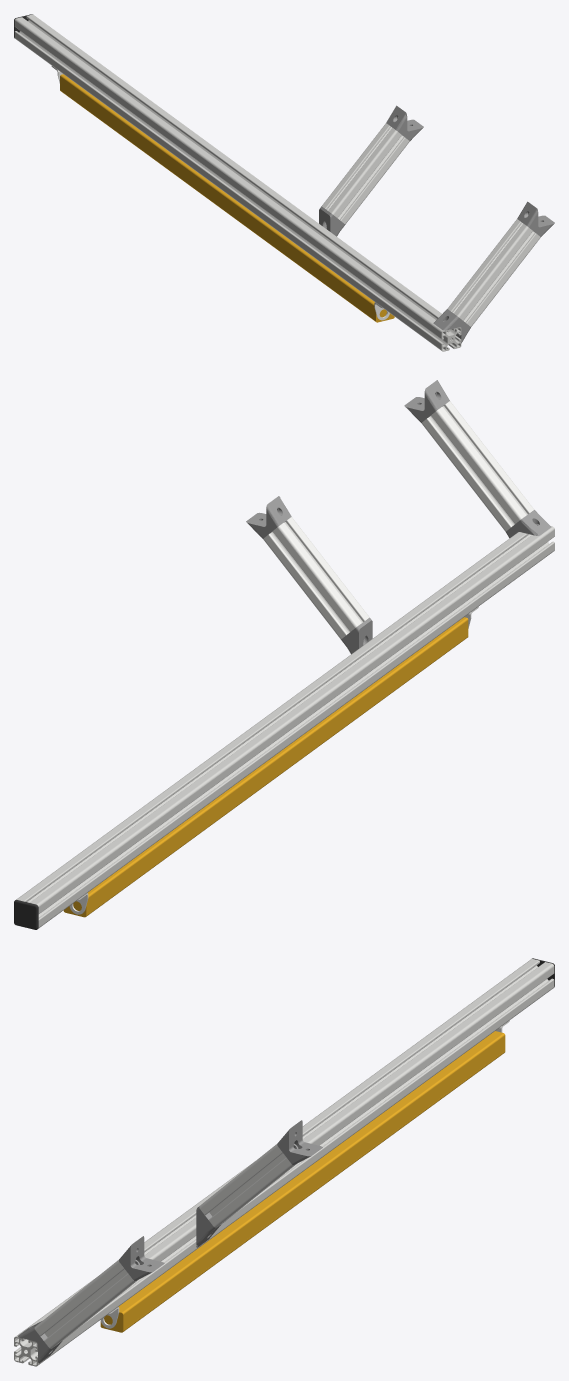
File: LC Assembly Rear RHS v13.dae
3 views of the same model, one above another, from view 1: azimuth 30°, elevation 25°; view 2: azimuth 150°, elevation 25°; view 3: azimuth 330°, elevation 25° (orthographic). The views are drawn at different scales.
Visible parts, largest first — view 1: node0, node2, node6, node9, node5, node8, node7, node10; view 2: node0, node2, node6, node9, node8, node5, node7; view 3: node0, node2, node6, node9, node5, node8, node10, node7.
Part boxes in pixels (x1,y1,x2,y2): node0: (14,14,461,351); node2: (60,74,394,322); node6: (447,219,540,326); node9: (322,123,409,224); node5: (517,201,554,236); node8: (386,105,423,140); node7: (433,309,470,343); node10: (319,206,345,236); node0: (16,526,554,928); node2: (63,617,468,917); node6: (421,401,534,531); node9: (263,517,369,639); node8: (246,496,291,538); node5: (404,380,449,422); node7: (506,510,551,538); node0: (14,959,554,1366); node2: (100,1031,505,1332); node6: (34,1260,137,1348); node9: (199,1143,296,1227); node5: (119,1236,164,1281); node8: (277,1120,322,1165); node10: (196,1206,225,1247); node7: (17,1321,62,1363).
Bounding box in the file's own units: 0.2315 × 1.5 × 0.2735.
